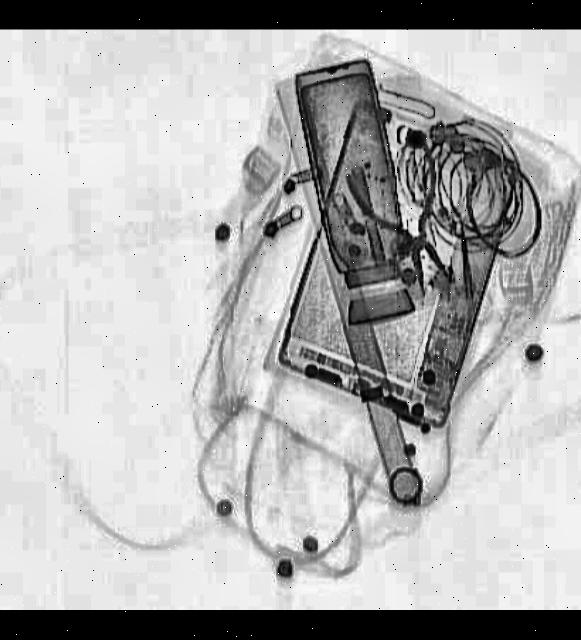Pliers: (340, 130, 479, 303)
